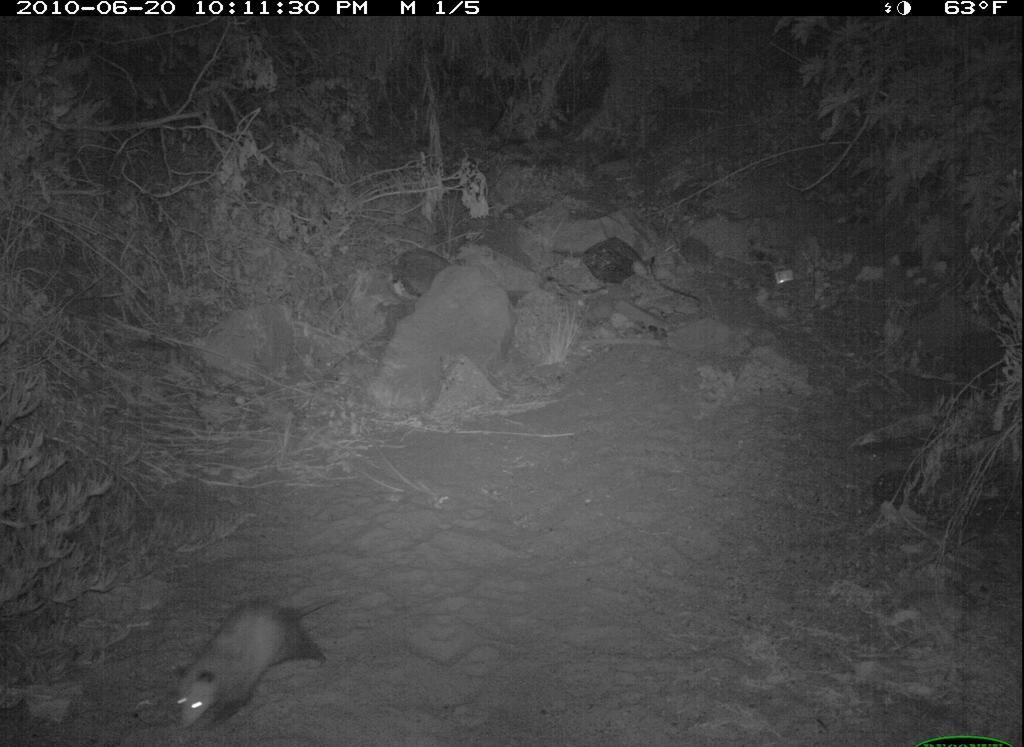opossum: (166, 589, 355, 740)
